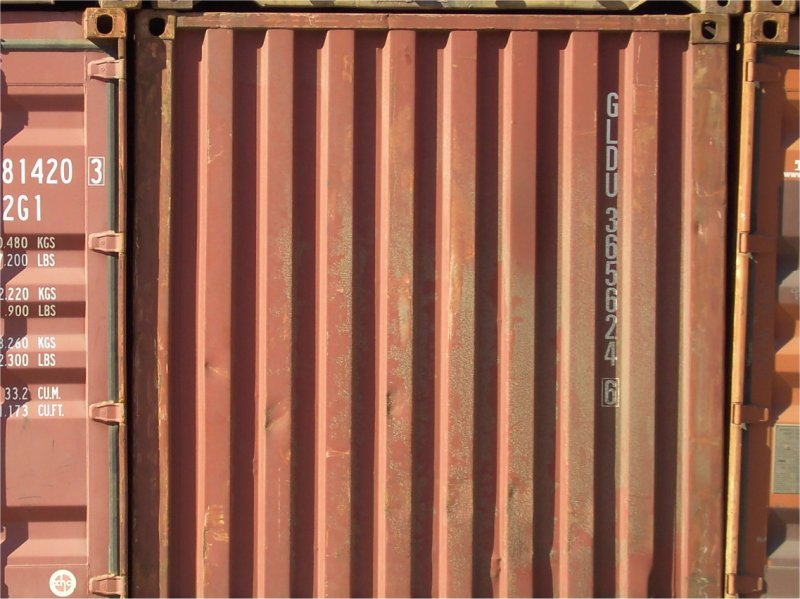container_no_door: (135, 2, 727, 599)
